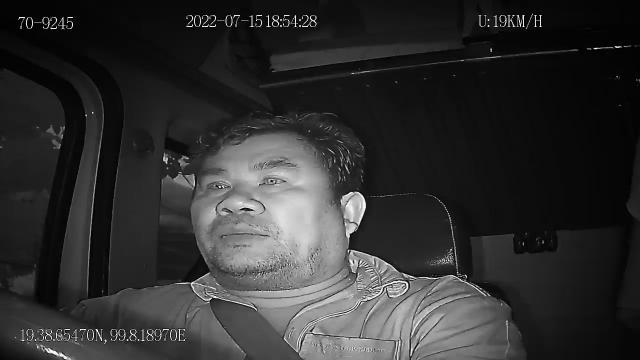SafeDriving: (252, 164, 296, 194), (197, 171, 237, 197)
Seatbelt: (210, 296, 306, 360)
